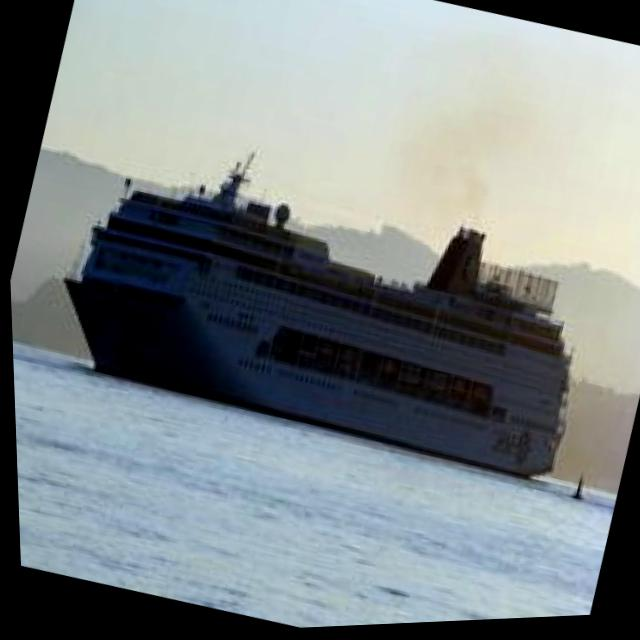ship2: (54, 153, 566, 485)
